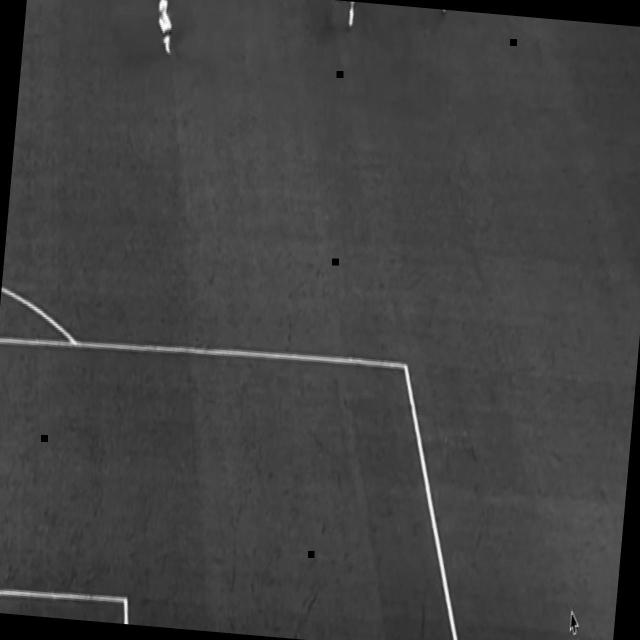player-white: (151, 0, 177, 60), (329, 0, 363, 34), (438, 9, 461, 19)
